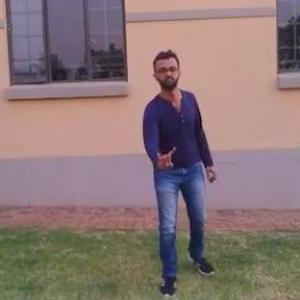takeoff-hand: (149, 140, 180, 176)
